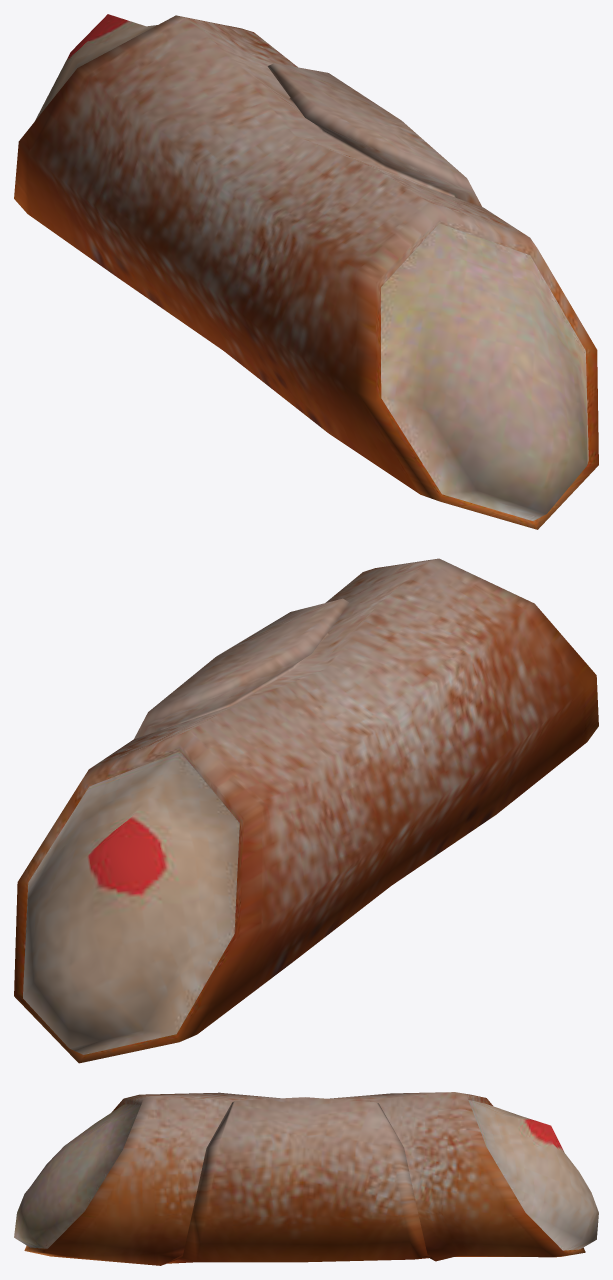
3 renders of one model, top to bottom at view 1: azimuth 30°, elevation 25°; view 2: azimuth 150°, elevation 25°; view 3: azimuth 270°, elevation 25°, orthographic. The views are drawn at different scales.
Parts seen in each view (by area): view 1: Cannolo1.001; view 2: Cannolo1.001; view 3: Cannolo1.001.
Boxes of the visible parts, x1,y1,x2,y2 form: Cannolo1.001: (14, 14, 598, 529); Cannolo1.001: (14, 558, 598, 1063); Cannolo1.001: (14, 1092, 598, 1265).
Size of the model in its own units: 0.1987 by 0.2061 by 0.6454.
Materials: 1 (1 with a texture image).
